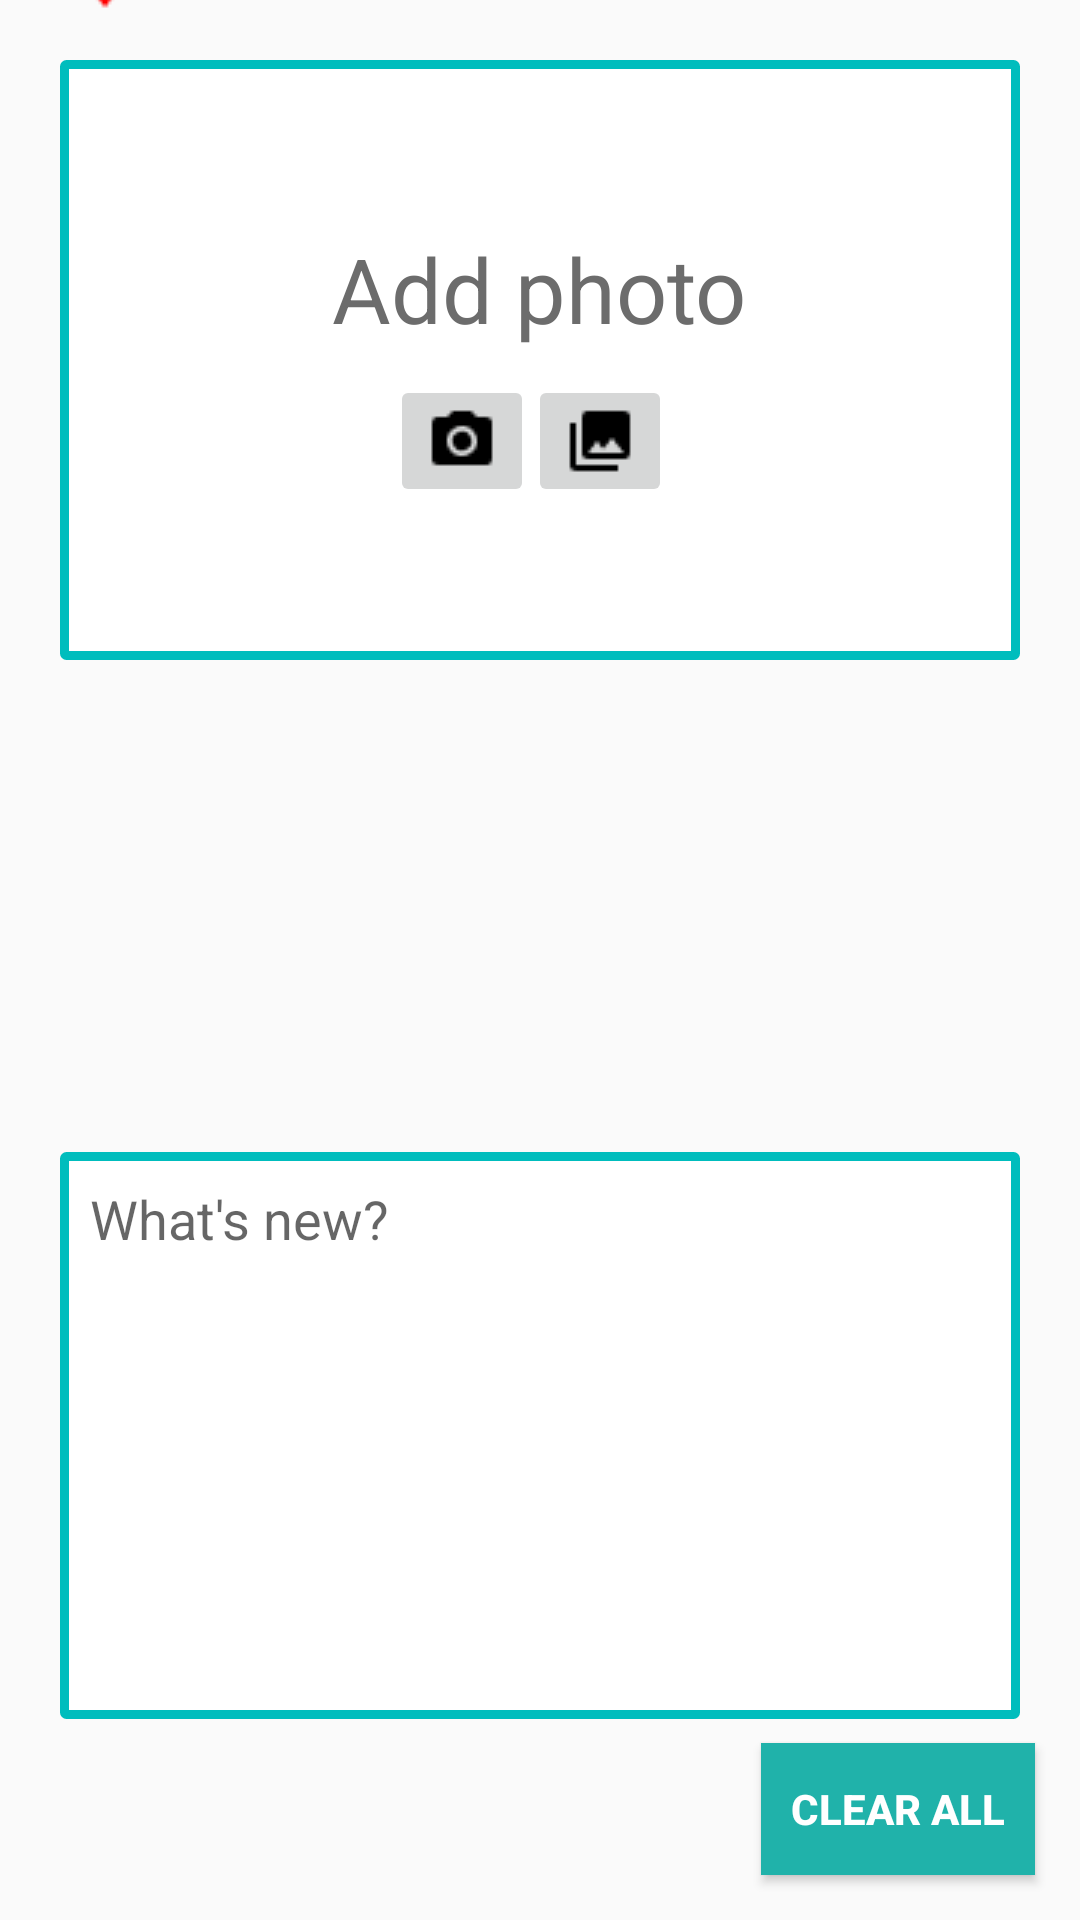

Icon click points for this 1080 × 1920 phone screenshot, format (x,y):
camera: (462,441)
photolibrary: (600,441)
